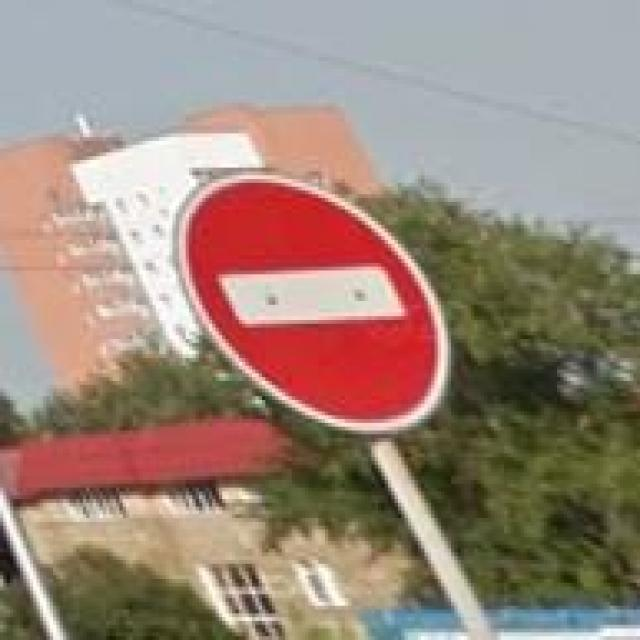do_not_enter: (176, 172, 454, 434)
